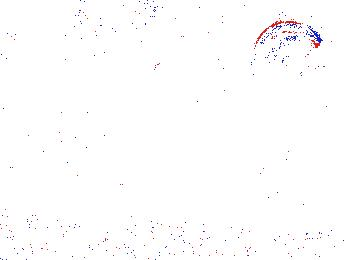moon jellyfish: (250, 20, 322, 88), (77, 1, 138, 59), (214, 1, 289, 42), (148, 1, 184, 67)
